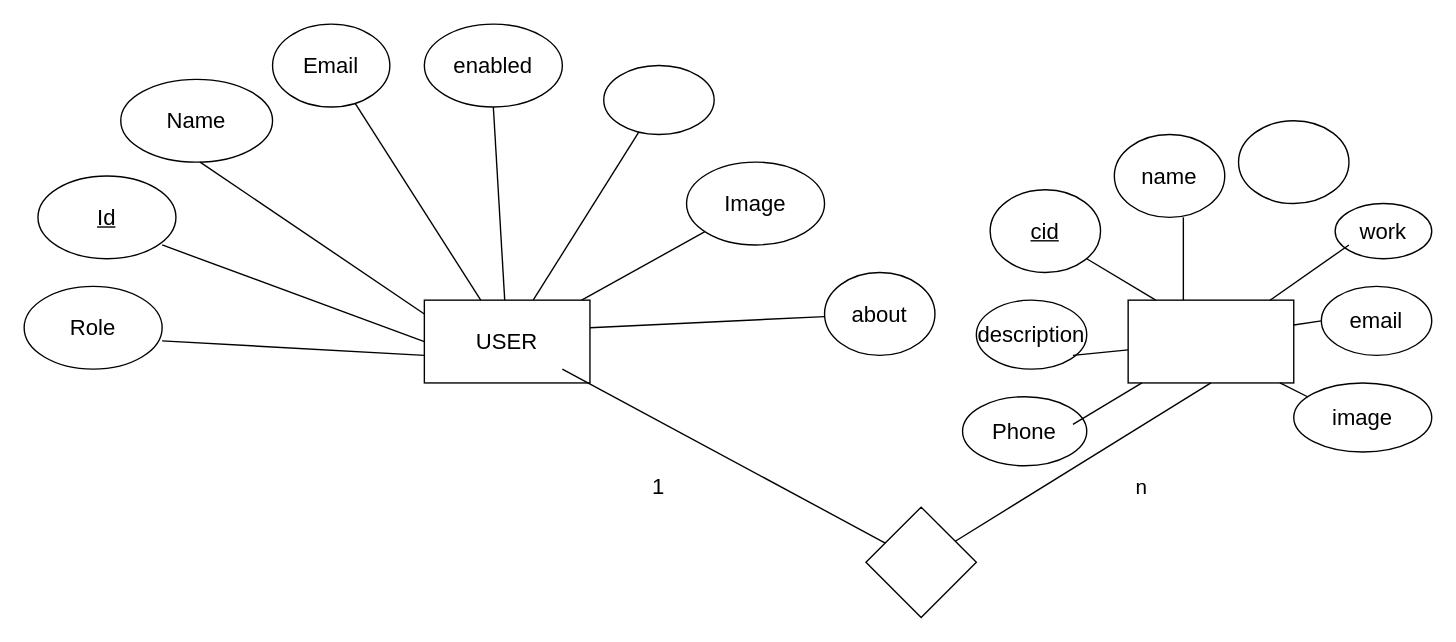
Image size: 1456x642. Some labels were removed from this diagram. The centre of each missing label's shape, as x and y in pixels:
CONTACT: point 1210,341
has: point 920,562
nikename: point 1293,161
Password: point 658,99
